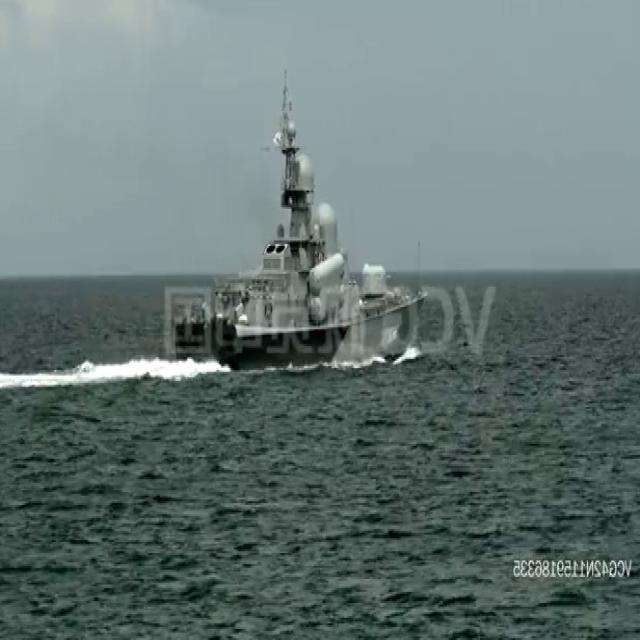houseboat: (151, 73, 435, 370)
